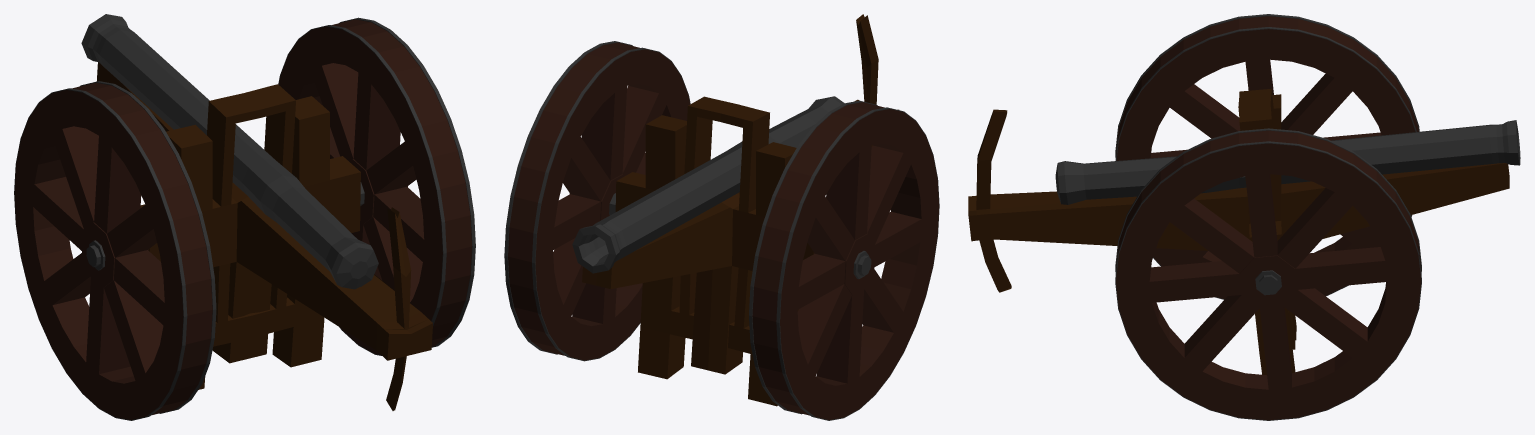
The model's file is V_Medieval03_Canhao.fbx.
The picture shows the model from 3 angles, left to right: view 1: azimuth 30°, elevation 25°; view 2: azimuth 150°, elevation 25°; view 3: azimuth 270°, elevation 25°; orthographic projection. The views are drawn at different scales.
Visible parts, largest first — view 1: Canhao; view 2: Canhao; view 3: Canhao.
Boxes of the visible parts, left/top/right/bottom form: Canhao: left=14, top=14, right=475, bottom=420; Canhao: left=504, top=14, right=939, bottom=420; Canhao: left=968, top=14, right=1520, bottom=420.
Size of the model in its own units: 209 by 202 by 361.
